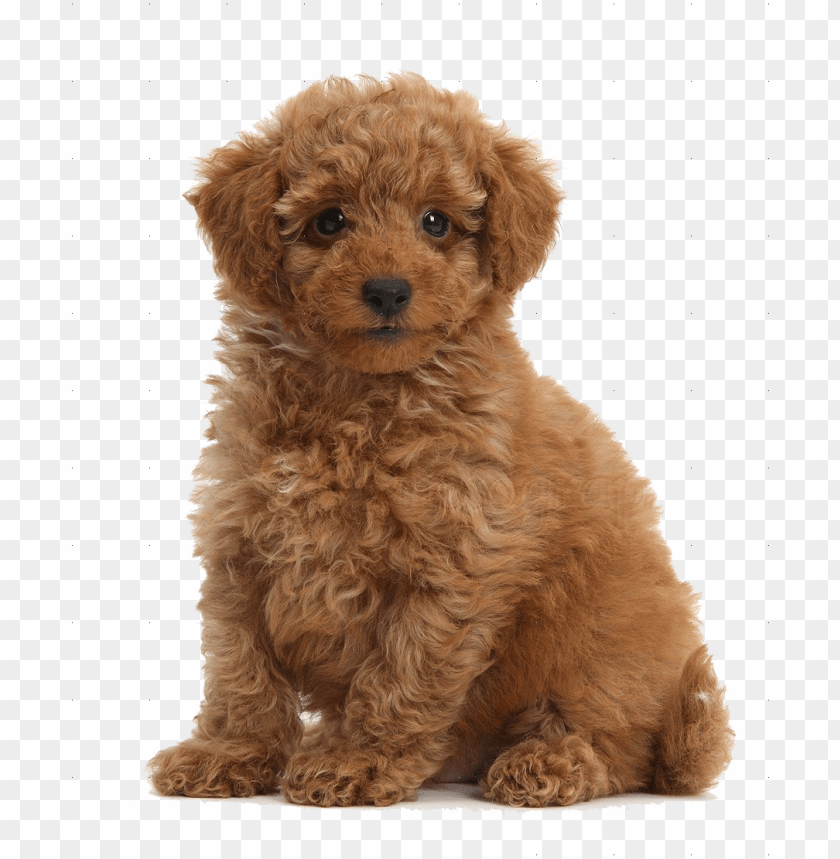dog: (181, 75, 763, 844)
